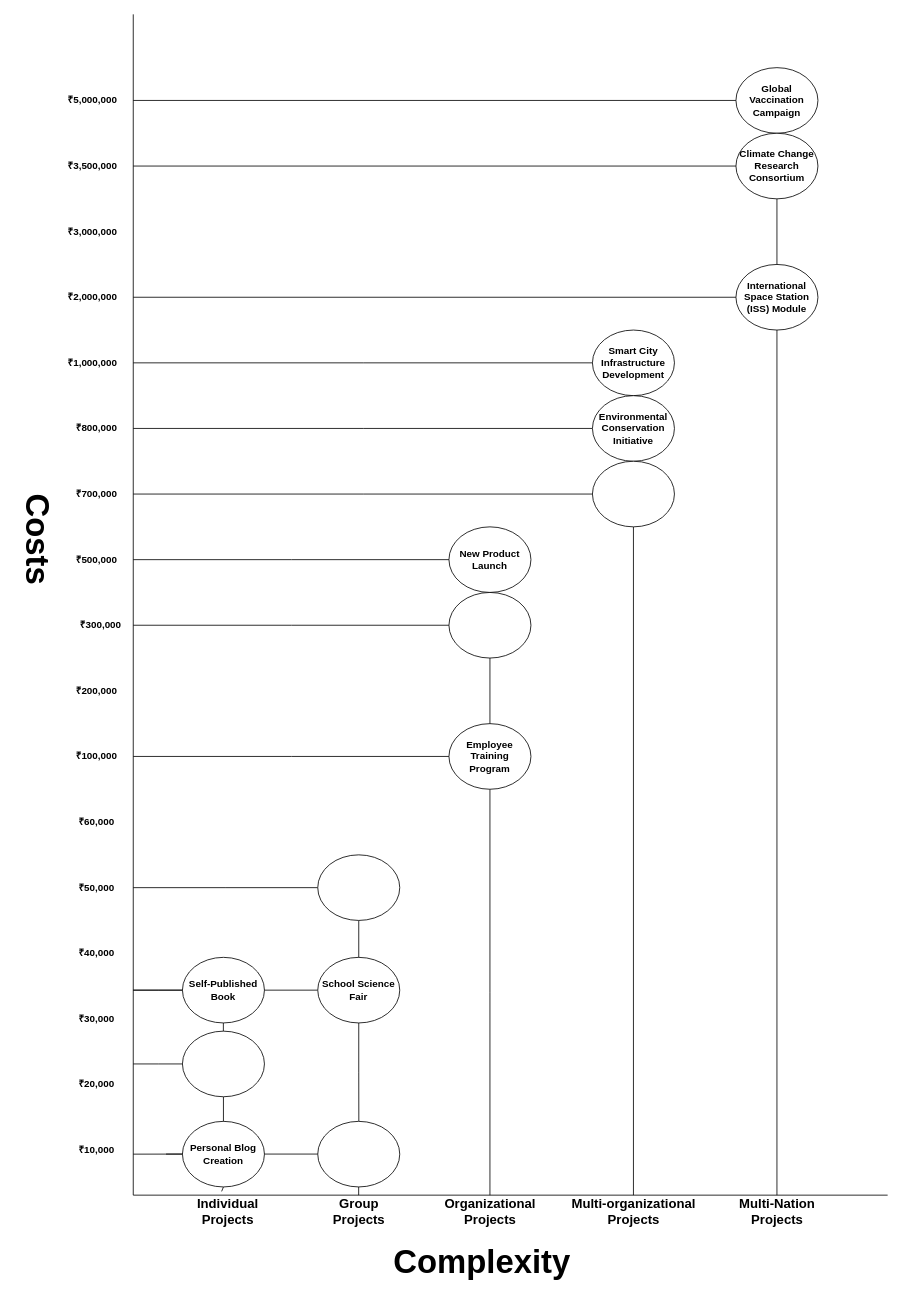
Image size: 903x1300. Some labels were removed from this diagram. The box of each missing label's shape, as (x1, y1, x2, y2) in pixels:
Charity Fundraising Event: (317, 854, 400, 920)
Community Cleanup Drive: (317, 1121, 400, 1187)
Home Garden Renovation: (182, 1030, 264, 1097)
Industry Standards Development: (592, 460, 674, 527)
Office Relocation: (448, 592, 531, 658)
